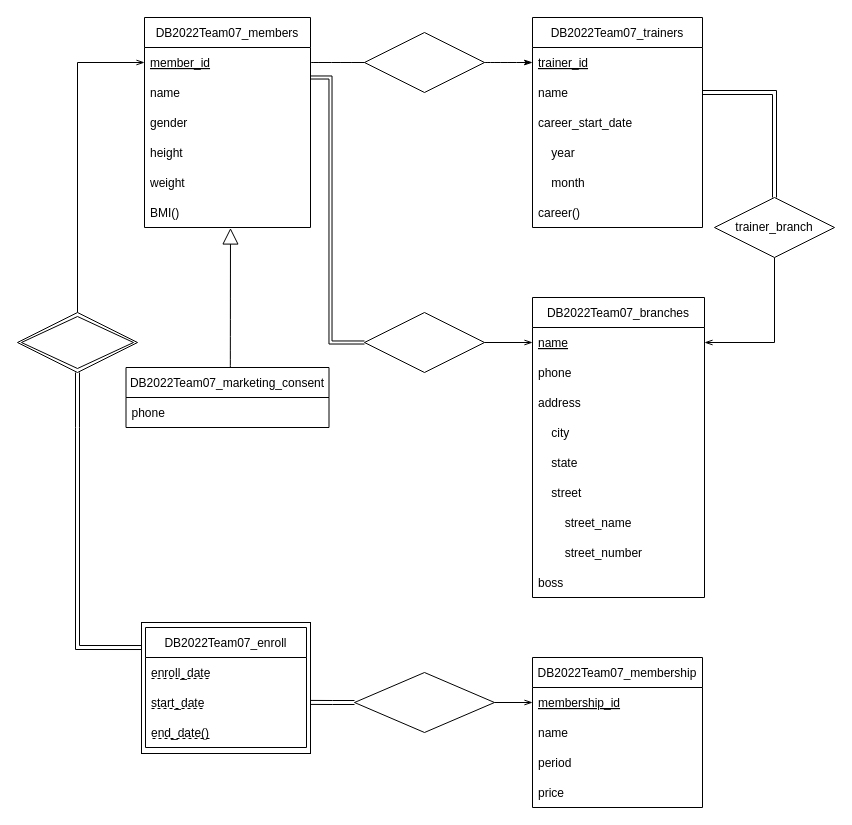
Image size: 852x825. Some labels were removed from this diagram. The shapes that lost their labels are listed below. From the top down, each one's centre as x and y in pixels, then its label:
At [424,62]: "matched trainer".
At [77,342]: "enroll_memb".
At [424,342]: "memb_branch".
At [424,702]: "memb_membership".
